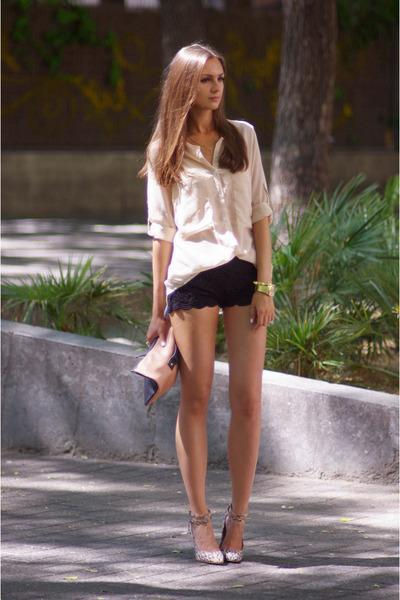bag: (134, 335, 190, 395)
shirt: (138, 120, 271, 275)
skirt: (168, 256, 258, 314)
